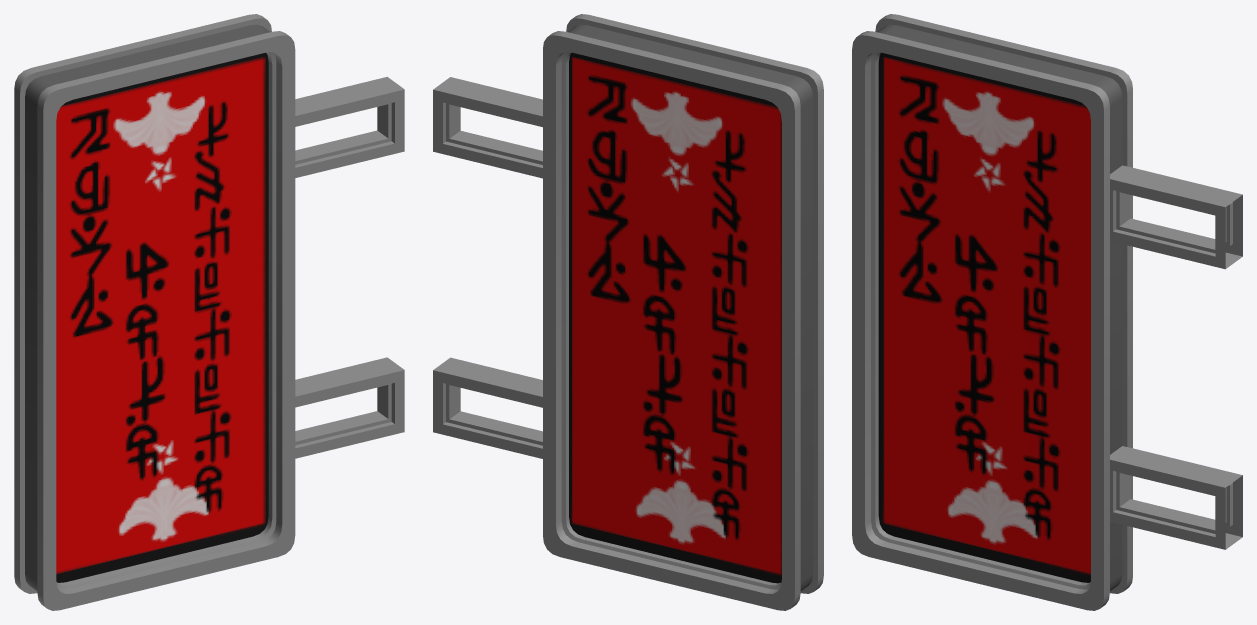
The picture shows the model from 3 angles, left to right: view 1: azimuth 30°, elevation 25°; view 2: azimuth 150°, elevation 25°; view 3: azimuth 330°, elevation 25°; orthographic projection.
Parts seen in each view (by area): view 1: MS_2M_1; view 2: MS_2M_1; view 3: MS_2M_1.
Boxes of the visible parts, x1,y1,x2,y2 form: MS_2M_1: [14, 14, 404, 610]; MS_2M_1: [433, 14, 823, 610]; MS_2M_1: [852, 14, 1242, 610].
Size of the model in its own units: 146 by 198 by 19.93.
